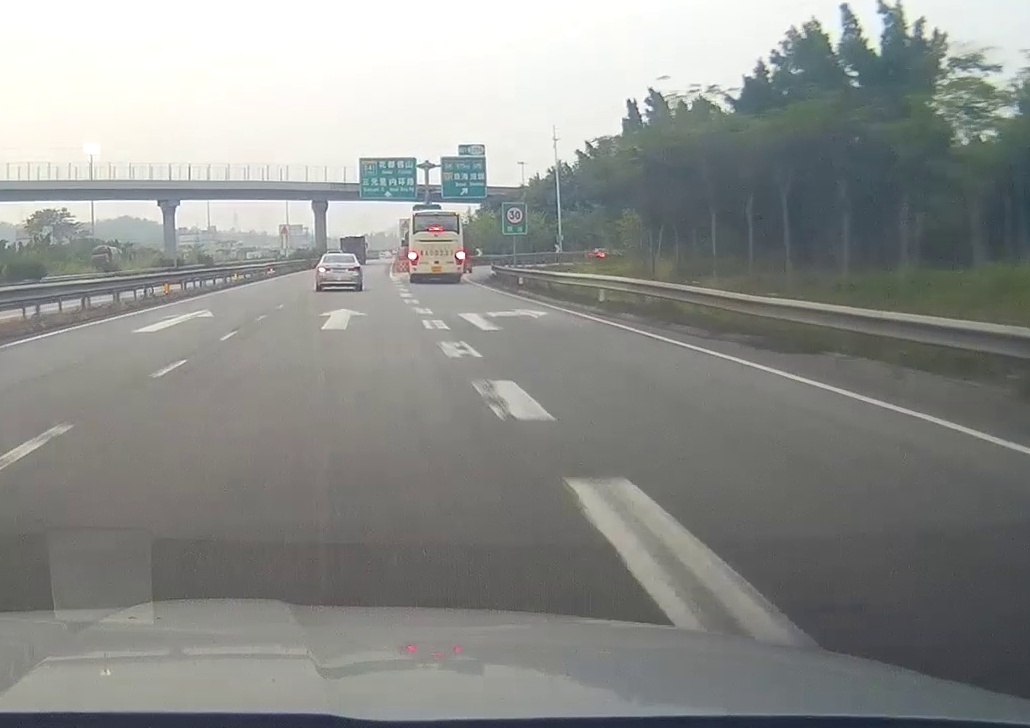L_light: (411, 251, 419, 265), (317, 266, 331, 273)
R_light: (456, 250, 463, 265), (348, 266, 360, 271)
T_light: (429, 227, 443, 230), (335, 255, 342, 258)
day-brake: (408, 210, 465, 283)
day-left: (316, 253, 362, 292)
